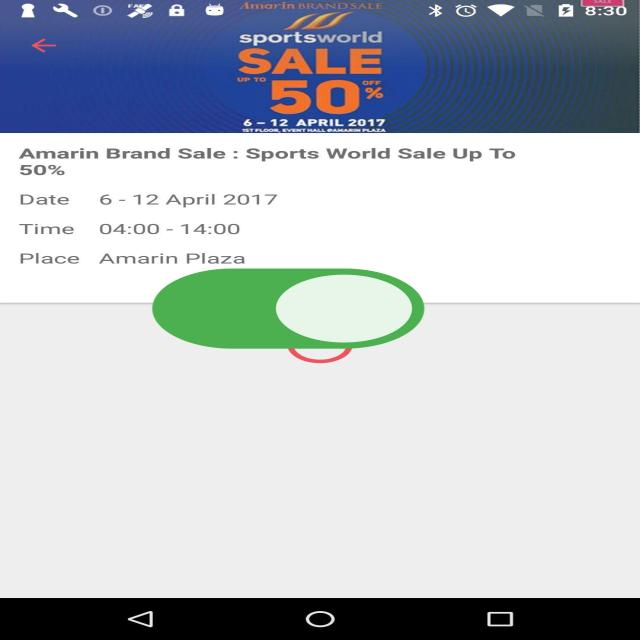social proof: (140, 238, 437, 386)
